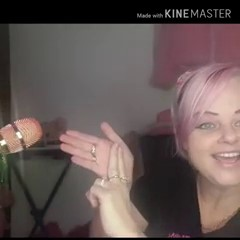N: (53, 119, 139, 238)
